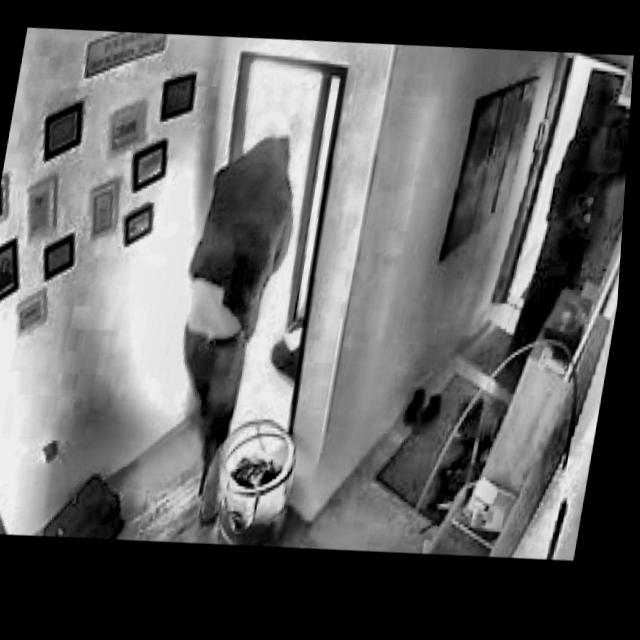burglary: (144, 119, 332, 543)
